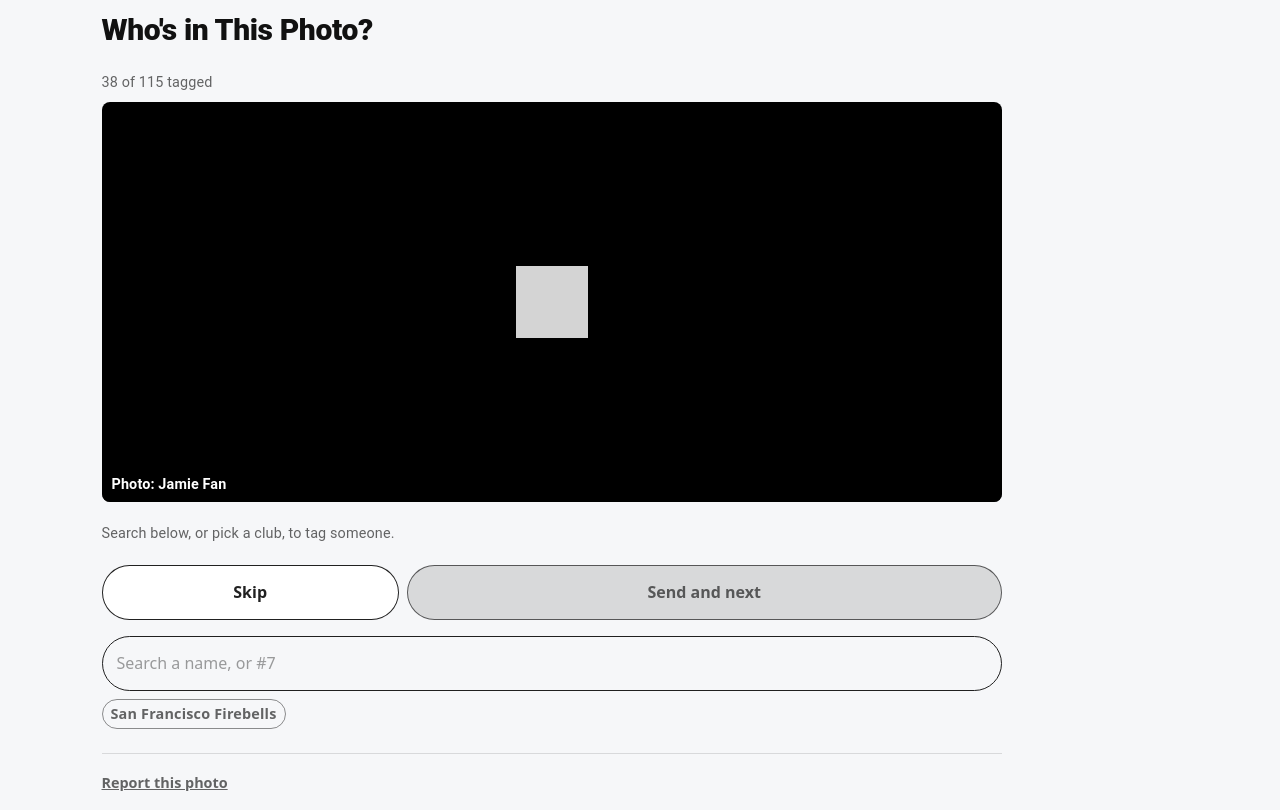
Test: PhotoTagPage › finds a player by number, sends exactly the picked ids, and moves on
expect the text "38 of 115 tagged" is shown: met, box [102,74,212,91]
Type "#7" into the search field named "Search by name or number" at (552, 663), box [102,636,1002,691]
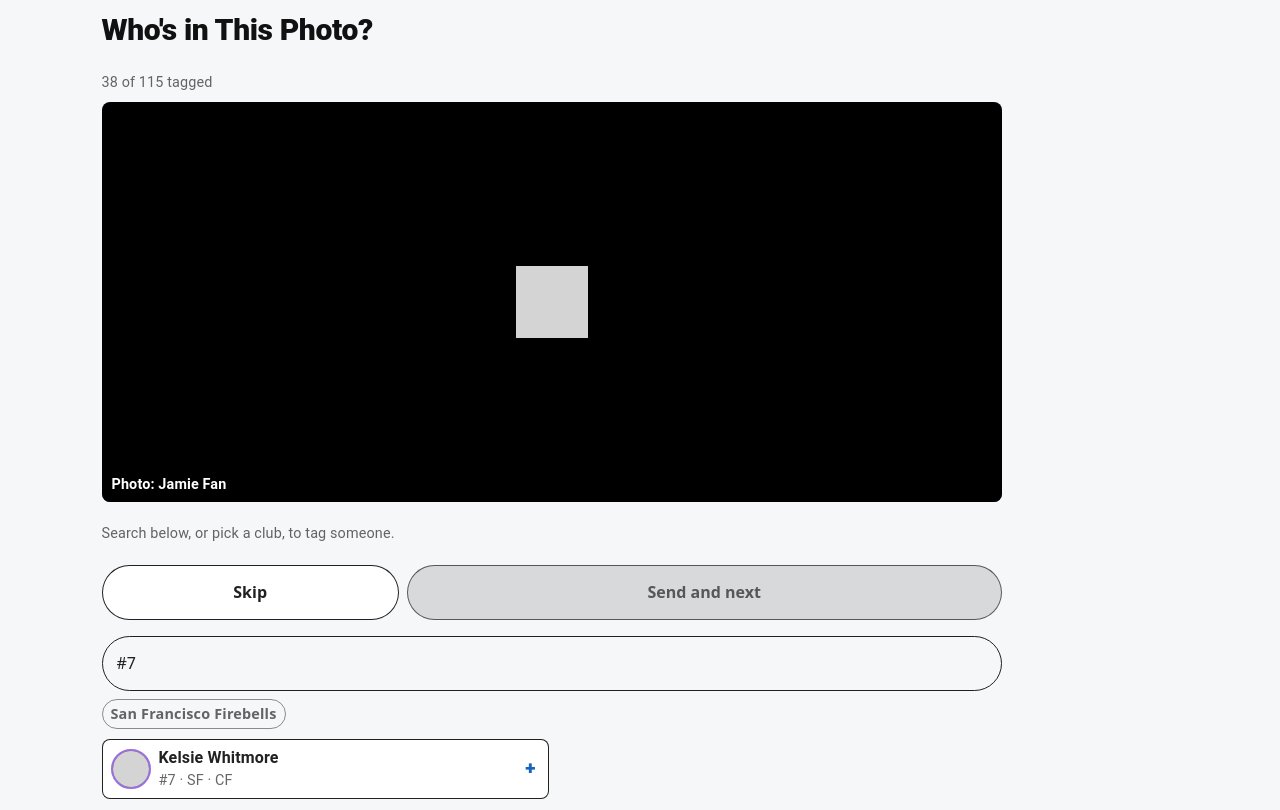
Click the text "Kelsie Whitmore" at (219, 757), box [158,748,279,767]
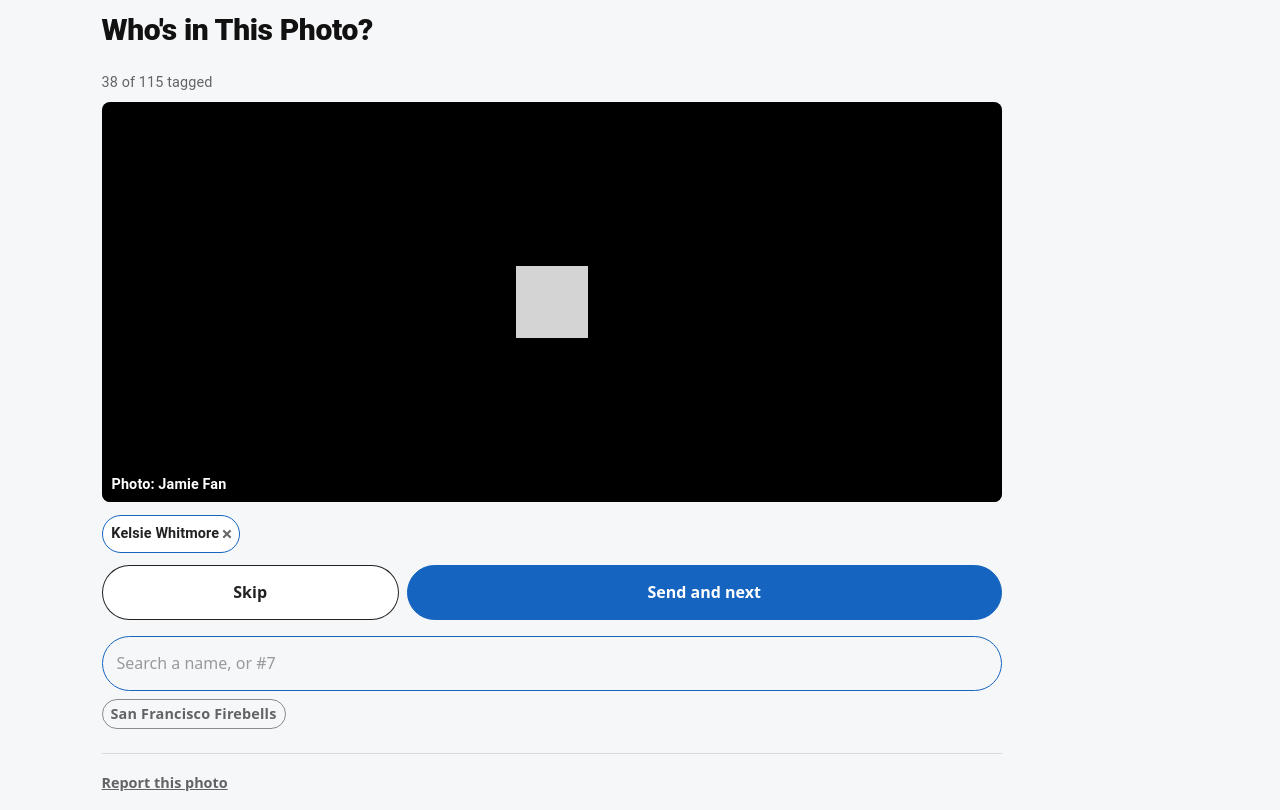
Click the button "Send and next" at (704, 592), box [407,565,1002,620]
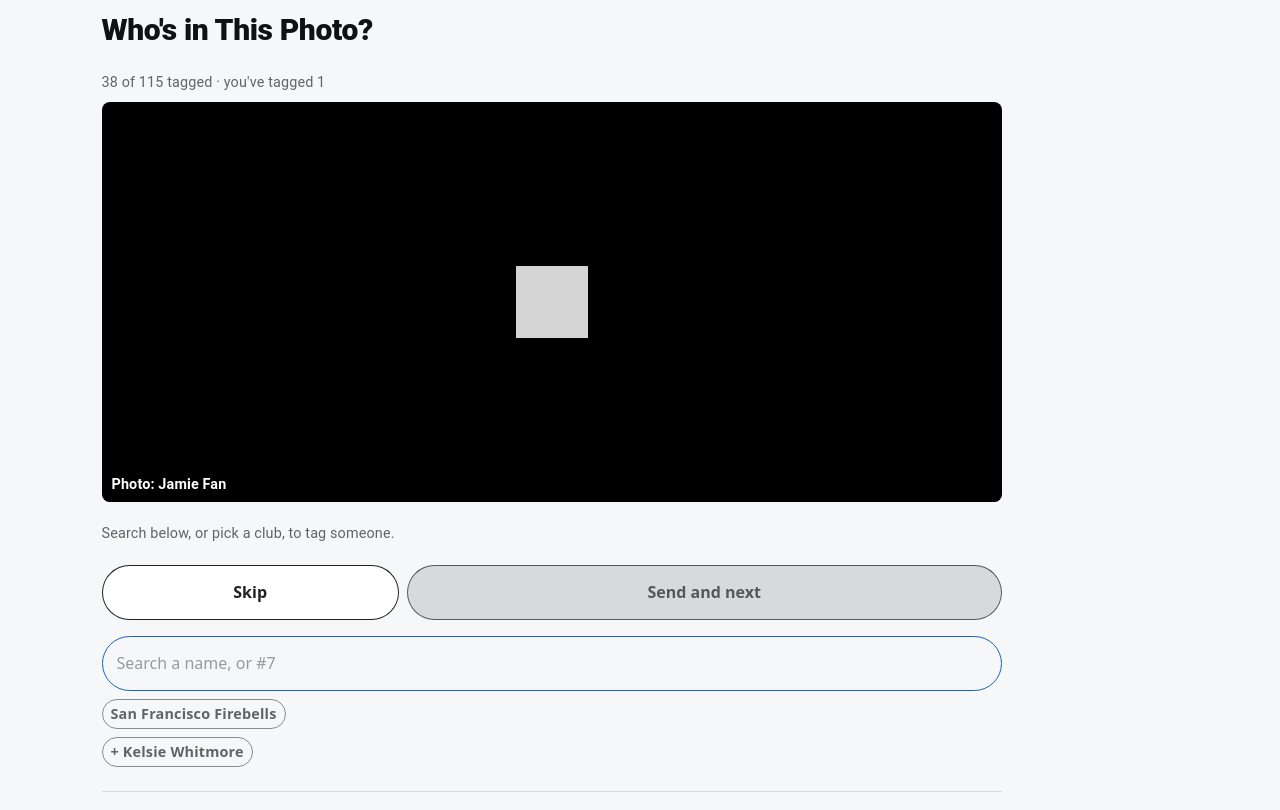
expect the text "38 of 115 tagged · you've tagged 1" is shown: met, box [102,74,325,91]
